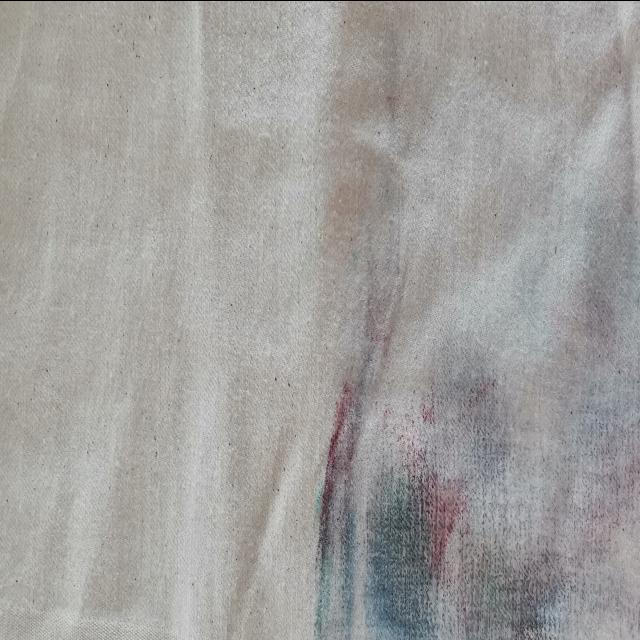taaaches: (306, 251, 640, 640)
